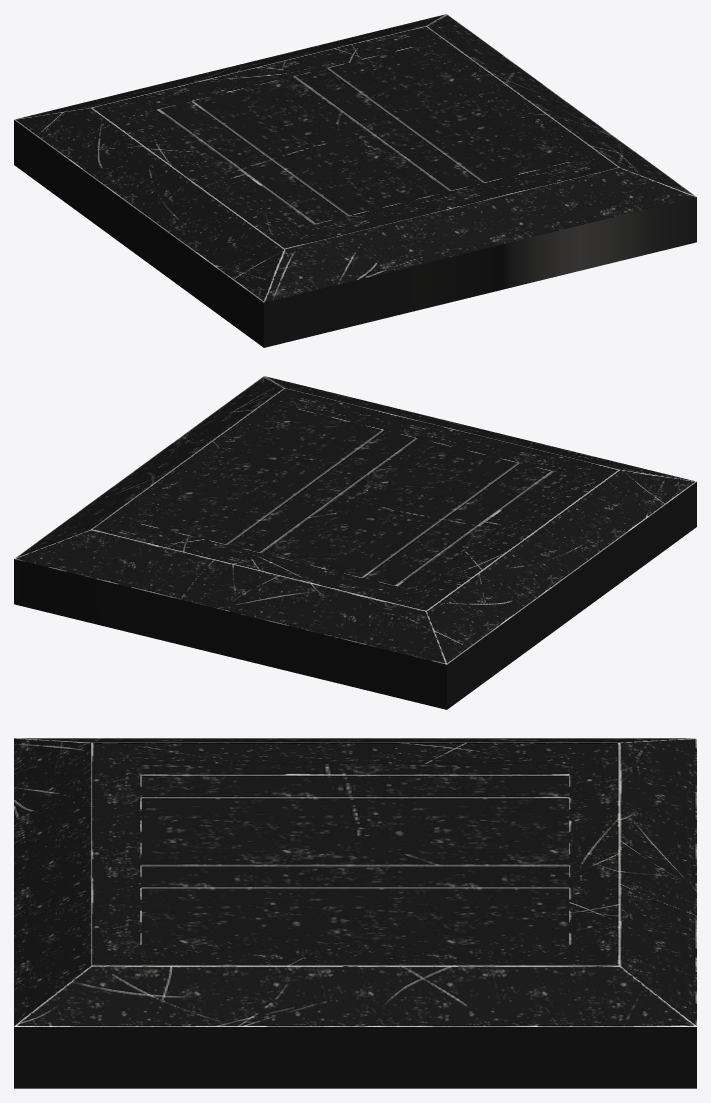
File: metal_vent.glb
The picture shows the model from 3 angles, top to bottom: view 1: azimuth 30°, elevation 25°; view 2: azimuth 150°, elevation 25°; view 3: azimuth 270°, elevation 25°; orthographic projection. The views are drawn at different scales.
Parts seen in each view (by area): view 1: grate_1_low; view 2: grate_1_low; view 3: grate_1_low.
Part boxes in pixels (x1,y1,x2,y2): grate_1_low: [14, 14, 696, 347]; grate_1_low: [14, 376, 696, 709]; grate_1_low: [14, 738, 696, 1088].
Bounding box in the file's own units: 2 × 0.2912 × 2.
1 material, 1 textured.
